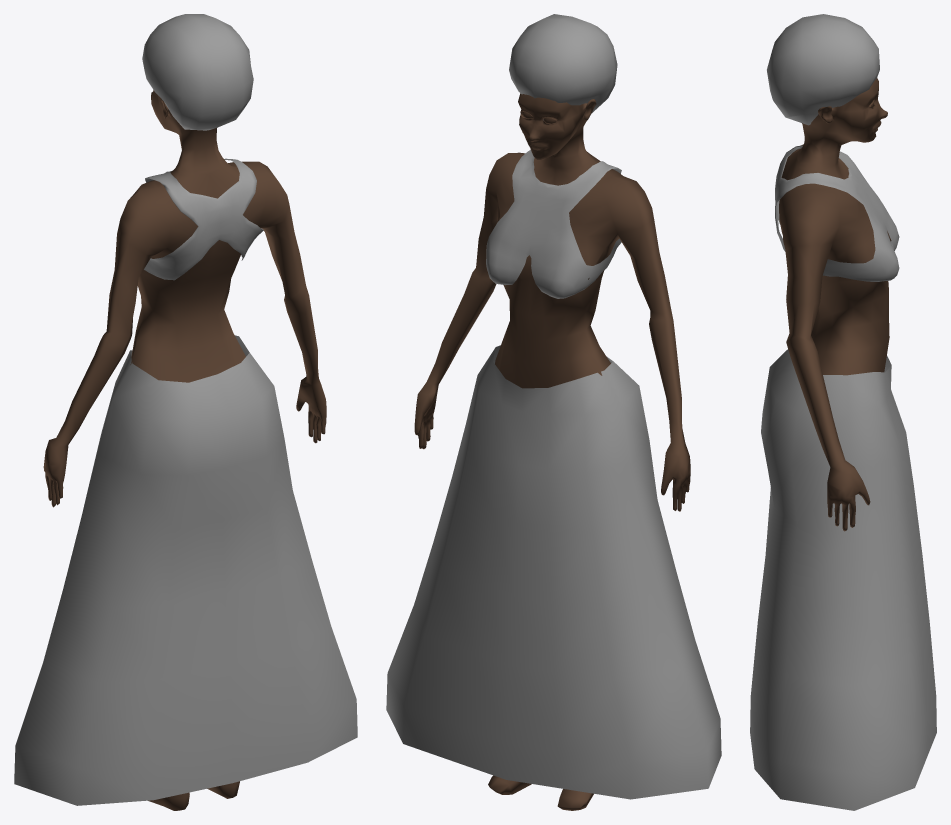
The model's file is Pelo_Africana.FBX.
3 renders of one model, left to right at view 1: azimuth 30°, elevation 25°; view 2: azimuth 150°, elevation 25°; view 3: azimuth 270°, elevation 25°, orthographic. The views are drawn at different scales.
Parts seen in each view (by area): view 1: Vestido_africana, Modelo_base, pelo_africana; view 2: Vestido_africana, Modelo_base, pelo_africana; view 3: Vestido_africana, Modelo_base, pelo_africana.
Part boxes in pixels (x1=…): Vestido_africana: x1=14, y1=158, x2=357, y2=805; Modelo_base: x1=43, y1=90, x2=326, y2=810; pelo_africana: x1=142, y1=14, x2=253, y2=130; Vestido_africana: x1=386, y1=149, x2=721, y2=799; Modelo_base: x1=414, y1=93, x2=690, y2=810; pelo_africana: x1=509, y1=14, x2=617, y2=120; Vestido_africana: x1=750, y1=145, x2=936, y2=810; Modelo_base: x1=779, y1=78, x2=891, y2=531; pelo_africana: x1=767, y1=14, x2=879, y2=125.
Bounding box in the file's own units: 149 × 337 × 75.29.
